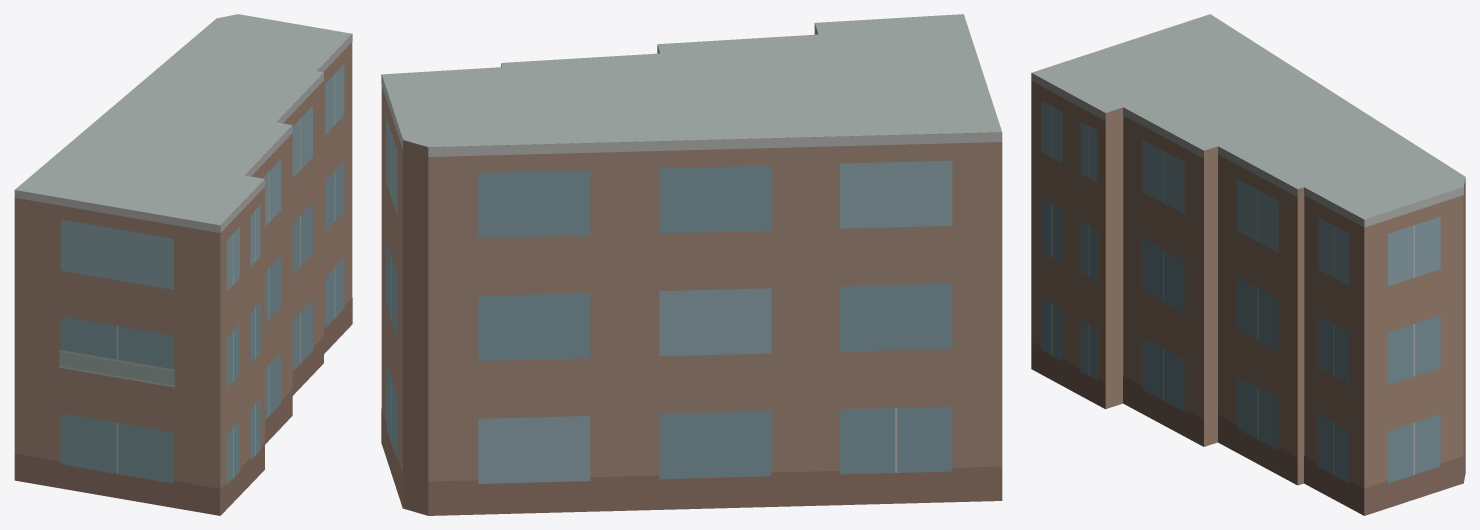
Rendered from survey-upis-32694103.glb.
The picture shows the model from 3 angles, left to right: view 1: azimuth 30°, elevation 25°; view 2: azimuth 150°, elevation 25°; view 3: azimuth 270°, elevation 25°; orthographic projection. The views are drawn at different scales.
Visible parts, largest first — view 1: survey-upis-32694103.tmp; view 2: survey-upis-32694103.tmp; view 3: survey-upis-32694103.tmp.
Part boxes in pixels (x1,y1,x2,y2): survey-upis-32694103.tmp: (14, 14, 352, 515); survey-upis-32694103.tmp: (381, 14, 1002, 515); survey-upis-32694103.tmp: (1031, 14, 1465, 515).
Bounding box in the file's own units: 13.56 × 9.1 × 12.1.
